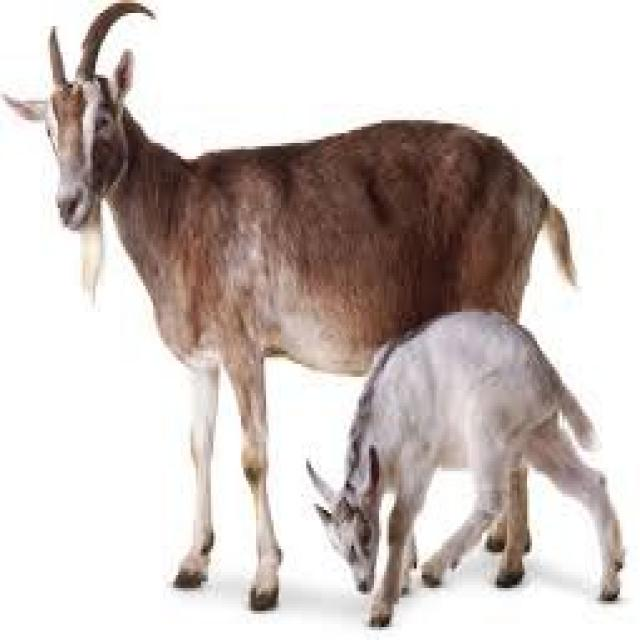Goat: (0, 0, 564, 602), (310, 314, 624, 622)
